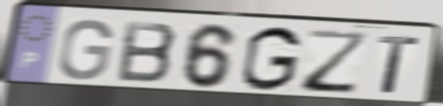6: (182, 21, 237, 90)
B: (114, 19, 180, 85)
G: (239, 24, 304, 93), (56, 17, 116, 82)
T: (376, 33, 421, 96)
Z: (300, 28, 371, 97)
